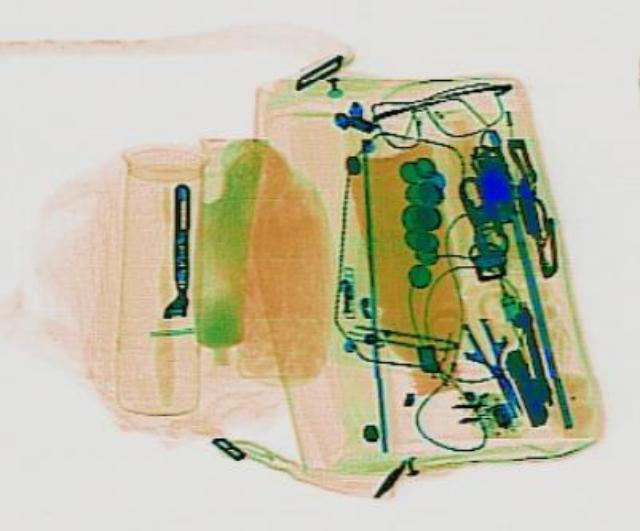Knife: (450, 312, 542, 422)
